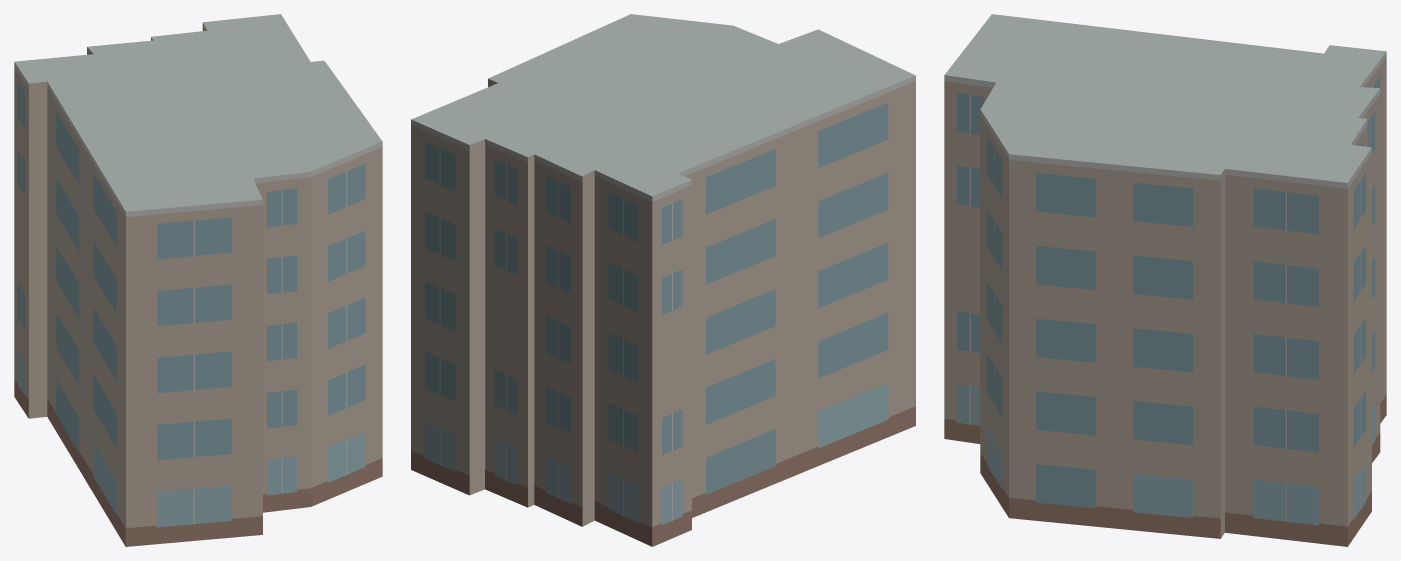
File: survey-upis-32676034.glb
3 views of the same model, side by side, from view 1: azimuth 30°, elevation 25°; view 2: azimuth 150°, elevation 25°; view 3: azimuth 270°, elevation 25° (orthographic). The views are drawn at different scales.
Parts seen in each view (by area): view 1: survey-upis-32676034.tmp; view 2: survey-upis-32676034.tmp; view 3: survey-upis-32676034.tmp.
Boxes of the visible parts, x1,y1,x2,y2 form: survey-upis-32676034.tmp: (14, 14, 382, 546); survey-upis-32676034.tmp: (411, 14, 915, 546); survey-upis-32676034.tmp: (944, 14, 1386, 546).
Bounding box in the file's own units: 15.35 × 15.4 × 16.97.
